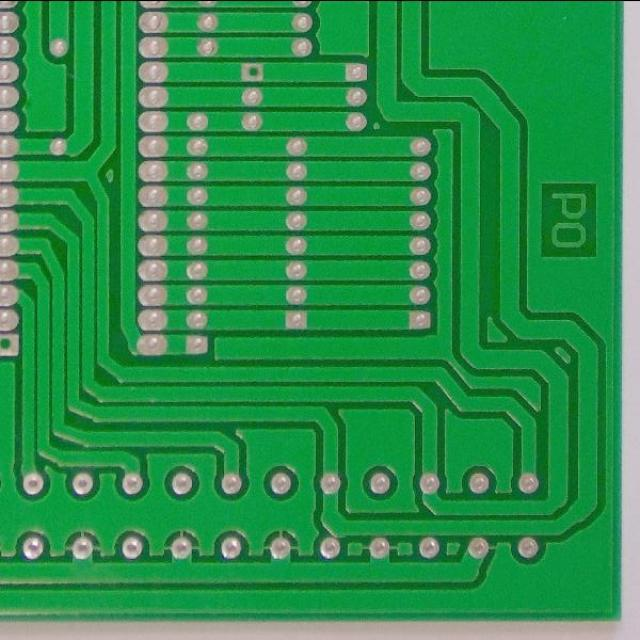missing_hole: (240, 58, 263, 83), (1, 332, 22, 355)
